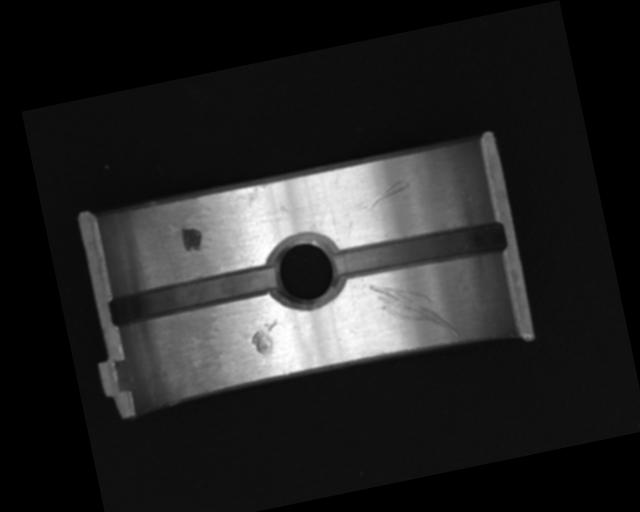blot: (179, 223, 205, 253)
bruise: (248, 319, 283, 356)
gap: (330, 215, 510, 286), (108, 262, 279, 326)
hole: (260, 228, 348, 317)
nick: (367, 268, 460, 350), (354, 177, 413, 214)
